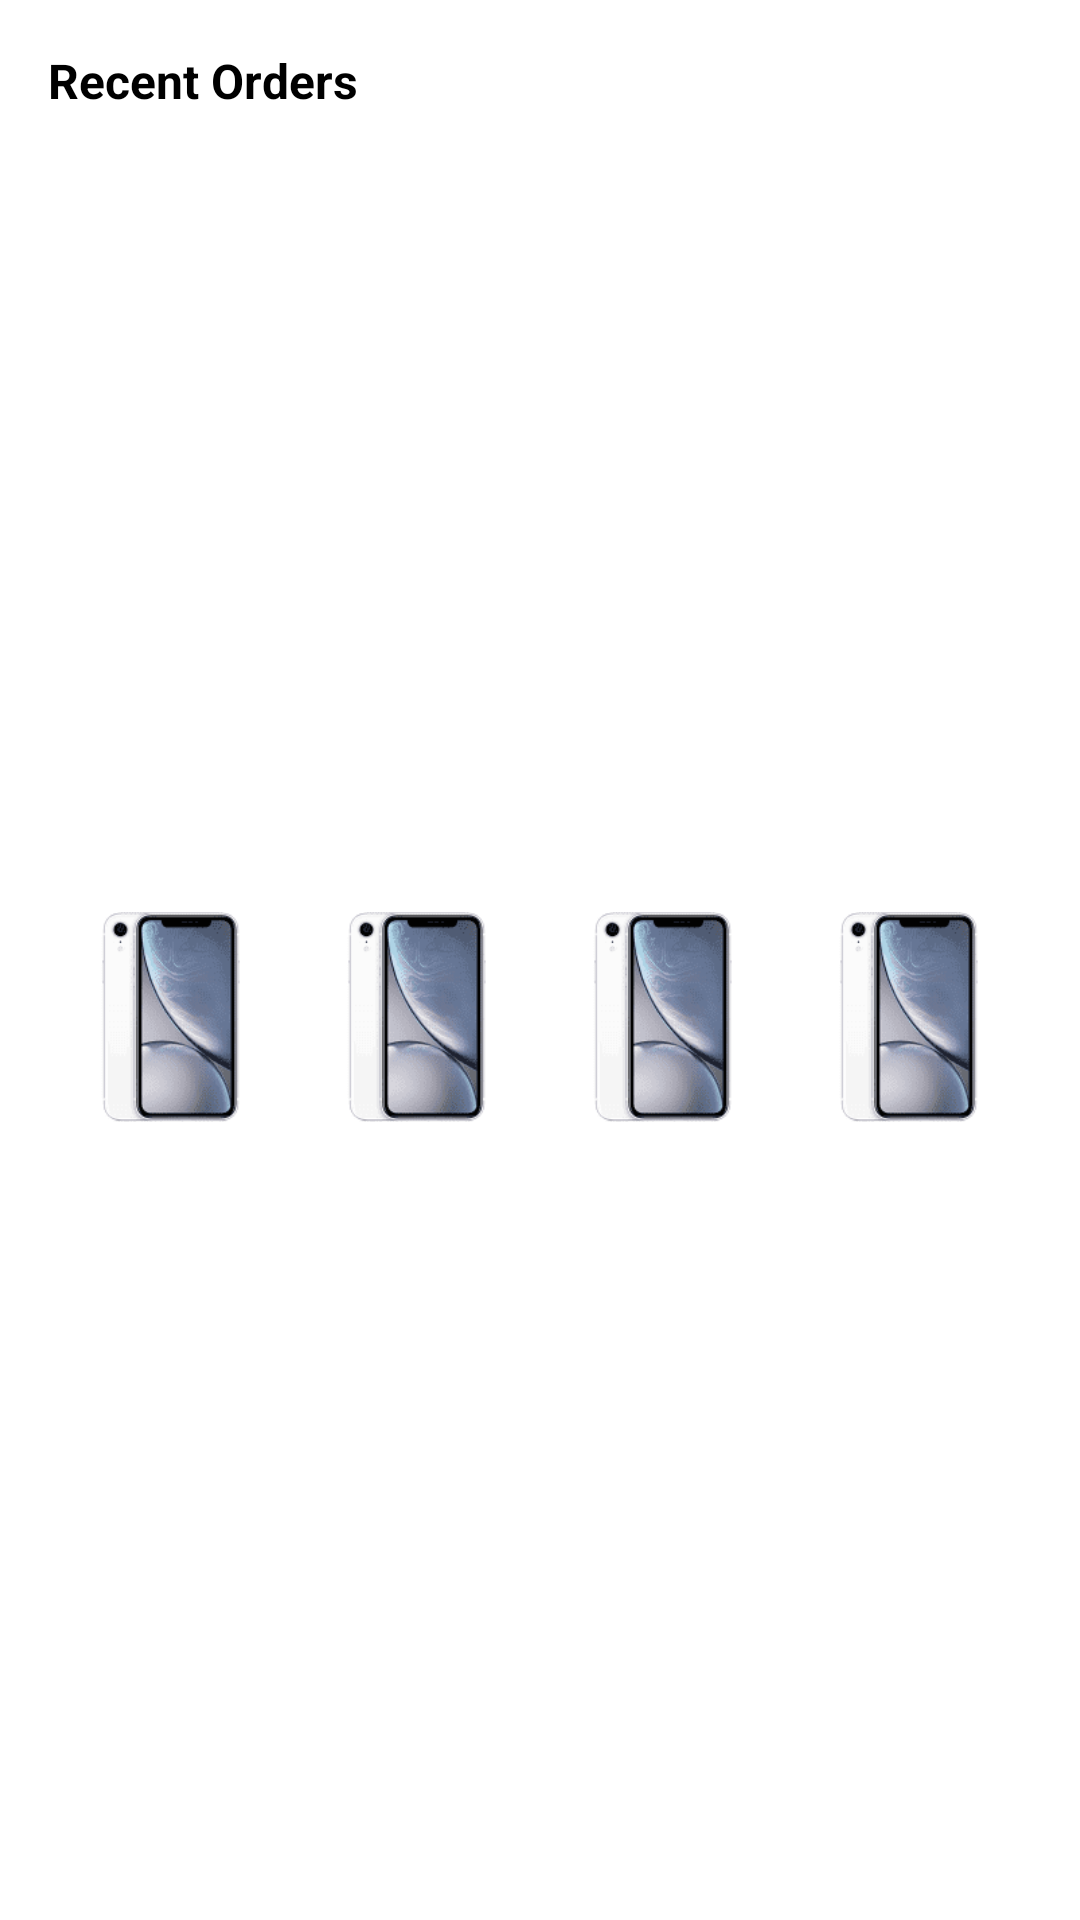

Named icons in this screenshot (1080x1920) and their centers, (x,y):
phone: (171,1016), (417,1016), (663,1016), (909,1016)
